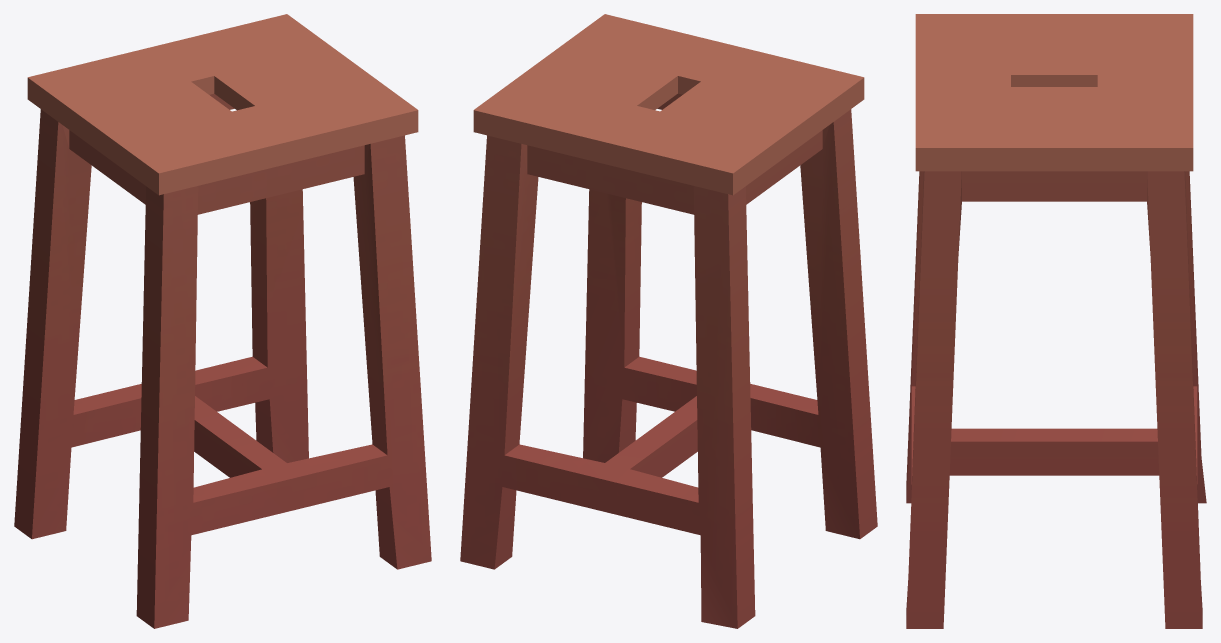
File: SM_Bench_Tall_04.fbx
3 renders of one model, left to right at view 1: azimuth 30°, elevation 25°; view 2: azimuth 150°, elevation 25°; view 3: azimuth 270°, elevation 25°, orthographic. The views are drawn at different scales.
Visible parts, largest first — view 1: SM_Bench_Tall_04; view 2: SM_Bench_Tall_04; view 3: SM_Bench_Tall_04.
Part boxes in pixels (bbox=[...]): SM_Bench_Tall_04: bbox=[14, 14, 431, 628]; SM_Bench_Tall_04: bbox=[460, 14, 877, 628]; SM_Bench_Tall_04: bbox=[906, 14, 1206, 628].
Bounding box in the file's own units: 54.94 × 85.17 × 48.69.
